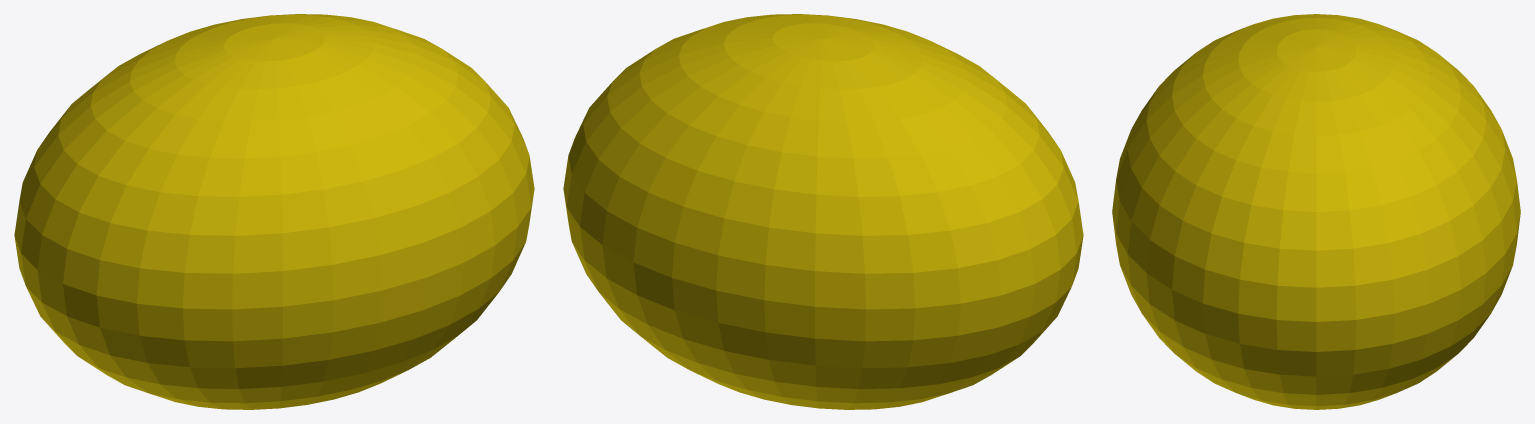
The model's file is sol2obj.obj.
The picture shows the model from 3 angles, left to right: view 1: azimuth 30°, elevation 25°; view 2: azimuth 150°, elevation 25°; view 3: azimuth 270°, elevation 25°; orthographic projection. The views are drawn at different scales.
Parts seen in each view (by area): view 1: Sphere_Sphere.001; view 2: Sphere_Sphere.001; view 3: Sphere_Sphere.001.
Part boxes in pixels (<box>): Sphere_Sphere.001: <box>14,14,534,409</box>; Sphere_Sphere.001: <box>563,14,1083,409</box>; Sphere_Sphere.001: <box>1112,14,1520,409</box>.
Bounding box in the file's own units: 2 × 1.39 × 1.57.
